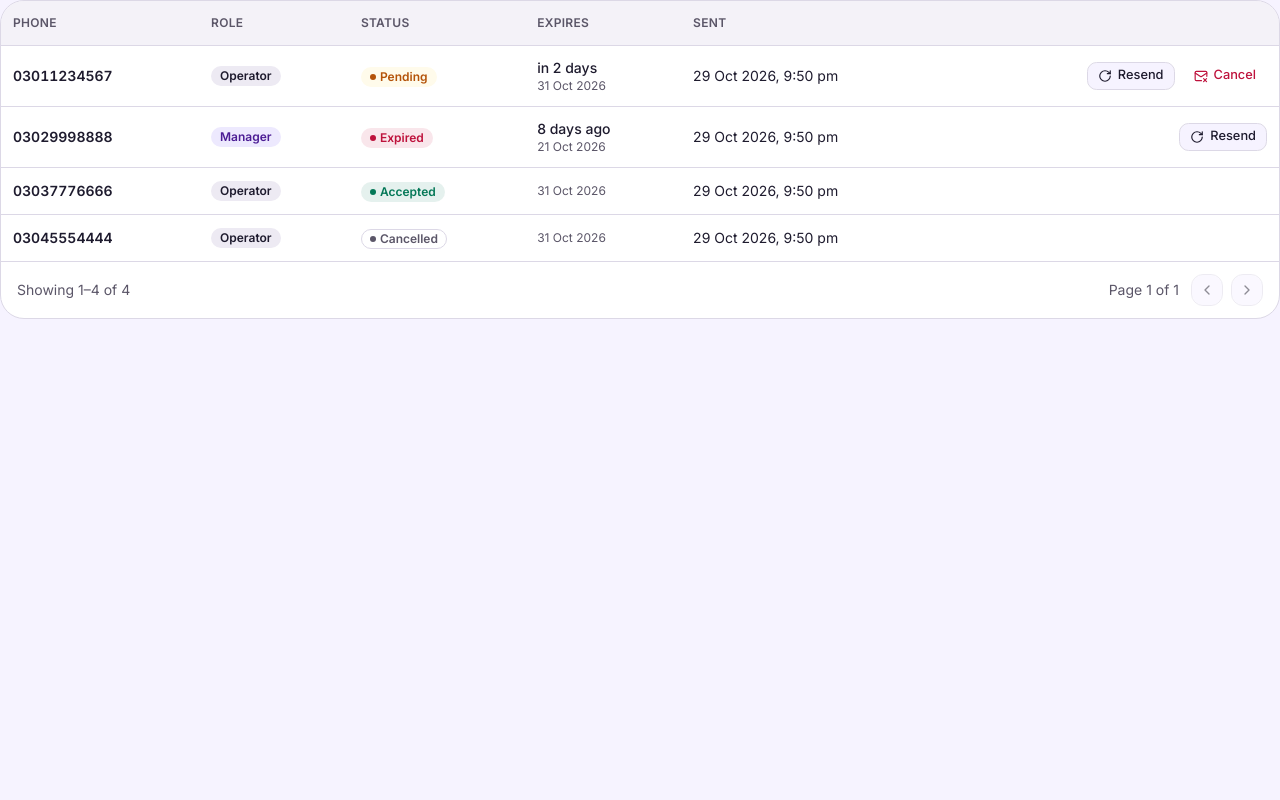
Test case: InvitationsTable › cancels a pending invite after confirming
Click the button "Cancel" at (1225, 76), box [1182, 62, 1267, 90]
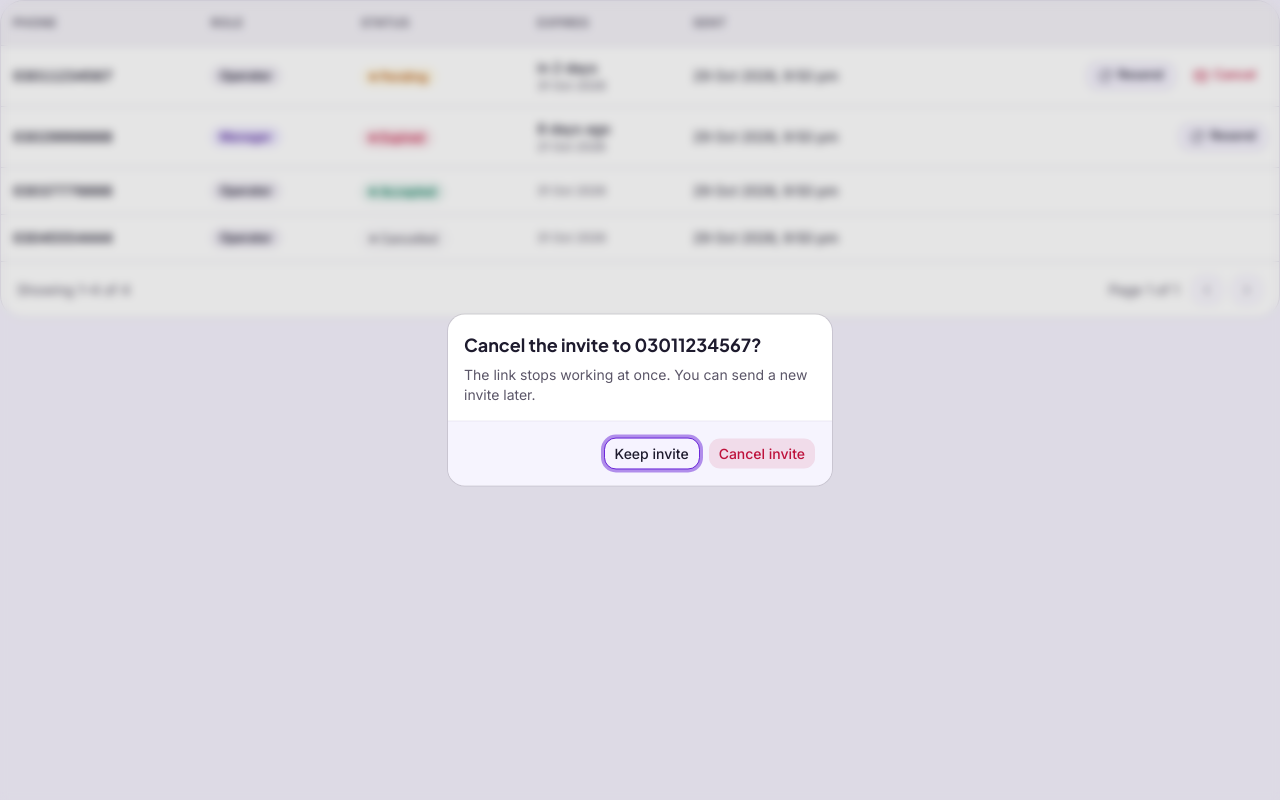
Click the button "Cancel invite" at (762, 454), box [708, 438, 816, 470]
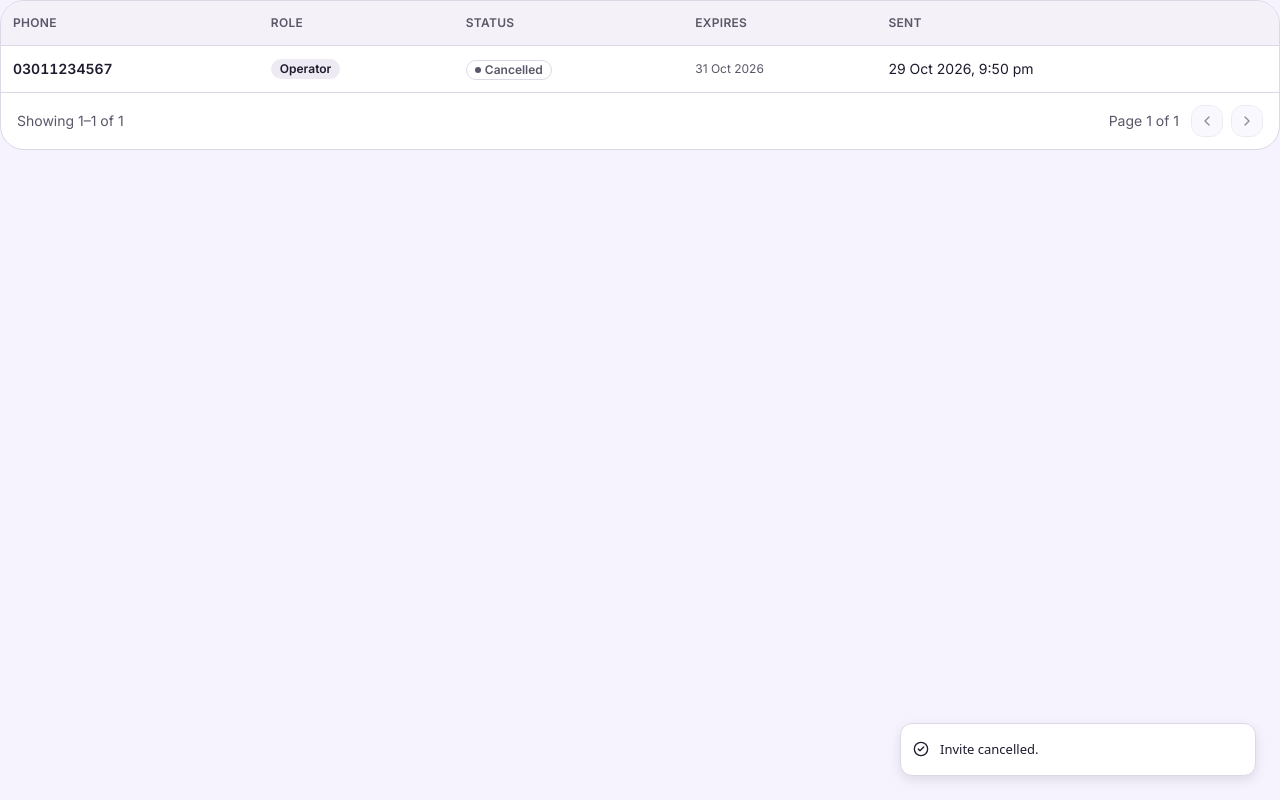
Result: the dialog is gone
Result: the text "Invite cancelled." is shown at [940, 740, 1038, 759]
Result: the text "03011234567" shows "Cancelled" at [485, 62, 543, 76]
